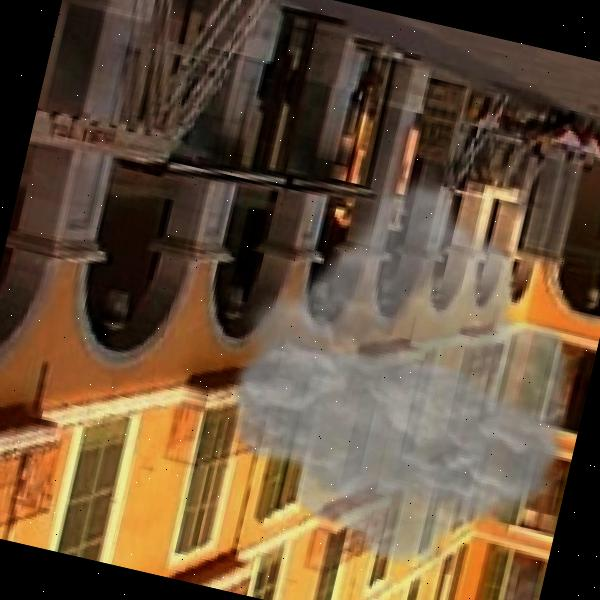smoke: (190, 139, 600, 600)
